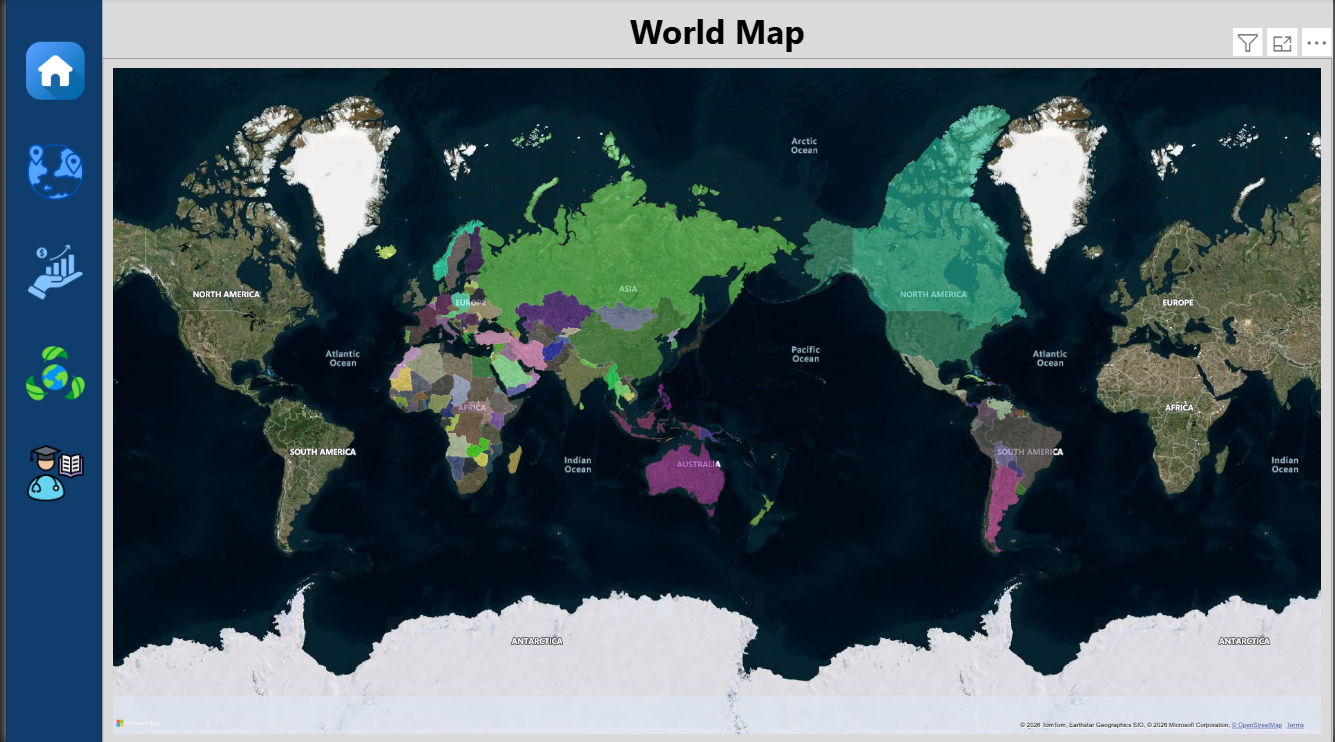

The dashboard page shown, as its layout file describes it:
{"tool":"powerbi","page":{"name":"Geography","canvas":[1920,1080],"ordinal":1},"visuals":[{"type":"shape","box":[0,0,139.3,1080.4],"z":0},{"type":"image","box":[16.3,63.3,110.4,84.4],"z":0,"group":"g1"},{"type":"textbox","box":[139.3,14.5,1780.7,72.4],"z":1000},{"type":"image","box":[16.3,209.1,110.4,84.4],"z":1000,"group":"g1"},{"type":"filledMap","fields":{"Category":["Dim_Country.Country"],"Series":["Fact_WorldData.GDP"]},"box":[139.3,86.9,1780.7,993.5],"z":2000},{"type":"image","box":[16.3,355,110.4,84.4],"z":2000,"group":"g1"},{"type":"group","id":"g1","title":"Group 1","box":[16.3,63.3,110.4,667.8],"z":2001},{"type":"image","box":[16.3,500.8,110.4,84.4],"z":3000,"group":"g1"},{"type":"image","box":[16.3,646.7,110.4,84.4],"z":4000,"group":"g1"}]}

Visuals, with their boxes on the page's 1920x1080 design canvas (x1, y1, x2, y2). These are canvas units, not pixel positions in the 1335x742 screenshot, which may show the page scaled, cropped or inside an application window:
shape: pyautogui.locateOnScreen(0, 0, 139, 1080)
image: pyautogui.locateOnScreen(16, 63, 127, 148)
textbox: pyautogui.locateOnScreen(139, 14, 1920, 87)
image: pyautogui.locateOnScreen(16, 209, 127, 294)
filledMap - Dim_Country.Country x Fact_WorldData.GDP: pyautogui.locateOnScreen(139, 87, 1920, 1080)
image: pyautogui.locateOnScreen(16, 355, 127, 439)
"Group 1" group: pyautogui.locateOnScreen(16, 63, 127, 731)
image: pyautogui.locateOnScreen(16, 501, 127, 585)
image: pyautogui.locateOnScreen(16, 647, 127, 731)
